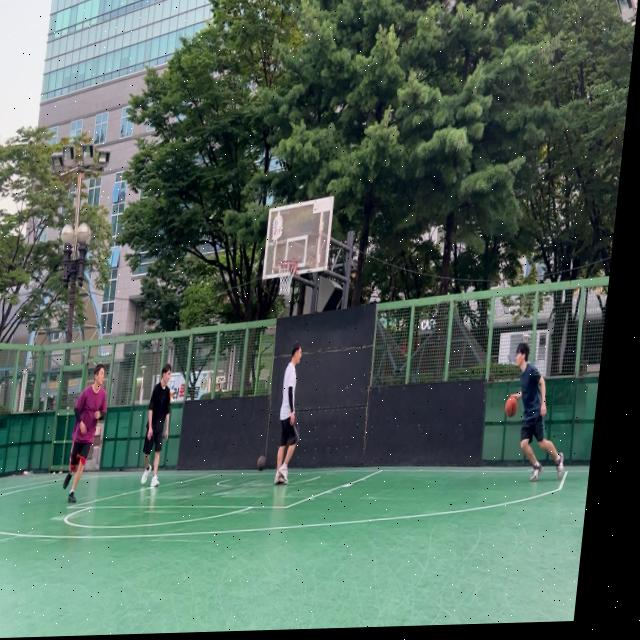basketball: (504, 396, 518, 417), (256, 455, 267, 471)
hoop: (273, 259, 298, 296)
